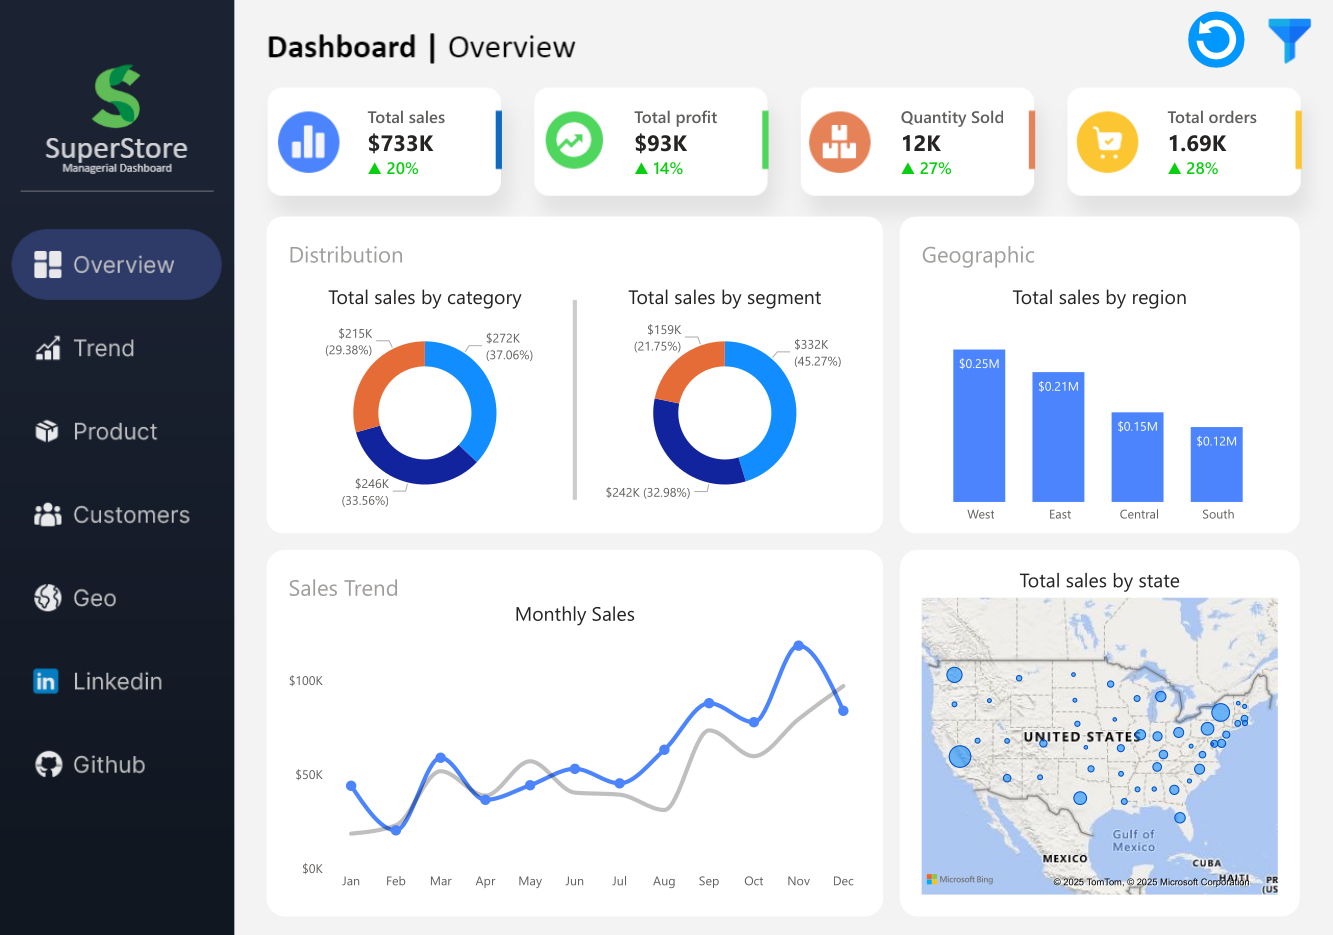

This screenshot's page, from the dashboard's own definition file:
{"tool":"powerbi","page":{"name":"Overview","canvas":[1280,900],"ordinal":0},"visuals":[{"type":"cardVisual","fields":{"Data":["Measure_table.Total sales"]},"box":[336,80,128,112],"z":0,"group":"g1"},{"type":"shape","box":[256,208,592,304],"z":0},{"type":"actionButton","title":"Filter swicth_off","box":[1192,0,88,72],"z":1000,"group":"g2"},{"type":"cardVisual","fields":{"Data":["Measure_table.Total profit"]},"box":[592,80,128,112],"z":1000,"group":"g1"},{"type":"shape","box":[256,528,592,352],"z":1000},{"type":"shape","box":[864,208,384,304],"z":2000},{"type":"lineChart","title":"Monthly Sales","fields":{"Y":["Measure_table.Total sales","Measure_table.total sales (py)"],"Category":["calender_Table.month_name"]},"box":[272,576,560,288],"z":3000},{"type":"shape","box":[864,528,384,352],"z":4000},{"type":"textbox","box":[880,224,144,48],"z":5000},{"type":"shape","box":[528,288,48,192],"z":7000},{"type":"textbox","box":[272,544,144,48],"z":8000},{"type":"textbox","box":[272,224,144,48],"z":9000},{"type":"donutChart","fields":{"Y":["Measure_table.Total sales"],"Category":["gold d_customers.segment"]},"box":[560,272,272,224],"z":10000},{"type":"columnChart","fields":{"Y":["Measure_table.Total sales"],"Category":["gold d_location.region"]},"box":[880,272,352,240],"z":11000},{"type":"donutChart","fields":{"Y":["Measure_table.Total sales"],"Category":["gold d_products.category"]},"box":[272,272,272,224],"z":12000},{"type":"group","id":"g1","title":"Kpis","box":[336,80,384,112],"z":13000},{"type":"map","fields":{"Size":["Measure_table.Total sales"],"Category":["gold d_location.state"]},"box":[880,544,352,320],"z":14000},{"type":"cardVisual","fields":{"Data":["Measure_table.Total orders"]},"box":[1104,80,144,112],"z":15000},{"type":"cardVisual","fields":{"Data":["Measure_table.total quantity"]},"box":[848,80,176,112],"z":16000},{"type":"image","box":[1136,6,64,64],"z":17000},{"type":"image","box":[0,0,224.1,224.1],"z":18000},{"type":"group","id":"g2","title":"Filter","box":[896,0,384,900],"z":19000},{"type":"actionButton","box":[0,624.8,224.1,63.3],"z":20000,"group":"g3"},{"type":"actionButton","box":[0,704.3,224.1,63.3],"z":21000,"group":"g3"},{"type":"pageNavigator","box":[0,217.9,224.1,388.6],"z":22000,"group":"g3"},{"type":"group","id":"g3","title":"Nav Buttons","box":[0,217.9,224.1,549.7],"z":22001}]}

Visuals, with their boxes on the page's 1280x900 design canvas (x1, y1, x2, y2). These are canvas units, not pixel positions in the 1333x935 screenshot, which may show the page scaled, cropped or inside an application window:
cardVisual - Measure_table.Total sales: rect(336, 80, 464, 192)
shape: rect(256, 208, 848, 512)
"Filter swicth_off" actionButton: rect(1192, 0, 1280, 72)
cardVisual - Measure_table.Total profit: rect(592, 80, 720, 192)
shape: rect(256, 528, 848, 880)
shape: rect(864, 208, 1248, 512)
"Monthly Sales" lineChart: rect(272, 576, 832, 864)
shape: rect(864, 528, 1248, 880)
textbox: rect(880, 224, 1024, 272)
shape: rect(528, 288, 576, 480)
textbox: rect(272, 544, 416, 592)
textbox: rect(272, 224, 416, 272)
donutChart - Measure_table.Total sales x gold d_customers.segment: rect(560, 272, 832, 496)
columnChart - Measure_table.Total sales x gold d_location.region: rect(880, 272, 1232, 512)
donutChart - Measure_table.Total sales x gold d_products.category: rect(272, 272, 544, 496)
"Kpis" group: rect(336, 80, 720, 192)
map - Measure_table.Total sales x gold d_location.state: rect(880, 544, 1232, 864)
cardVisual - Measure_table.Total orders: rect(1104, 80, 1248, 192)
cardVisual - Measure_table.total quantity: rect(848, 80, 1024, 192)
image: rect(1136, 6, 1200, 70)
image: rect(0, 0, 224, 224)
"Filter" group: rect(896, 0, 1280, 900)
actionButton: rect(0, 625, 224, 688)
actionButton: rect(0, 704, 224, 768)
pageNavigator: rect(0, 218, 224, 606)
"Nav Buttons" group: rect(0, 218, 224, 768)
